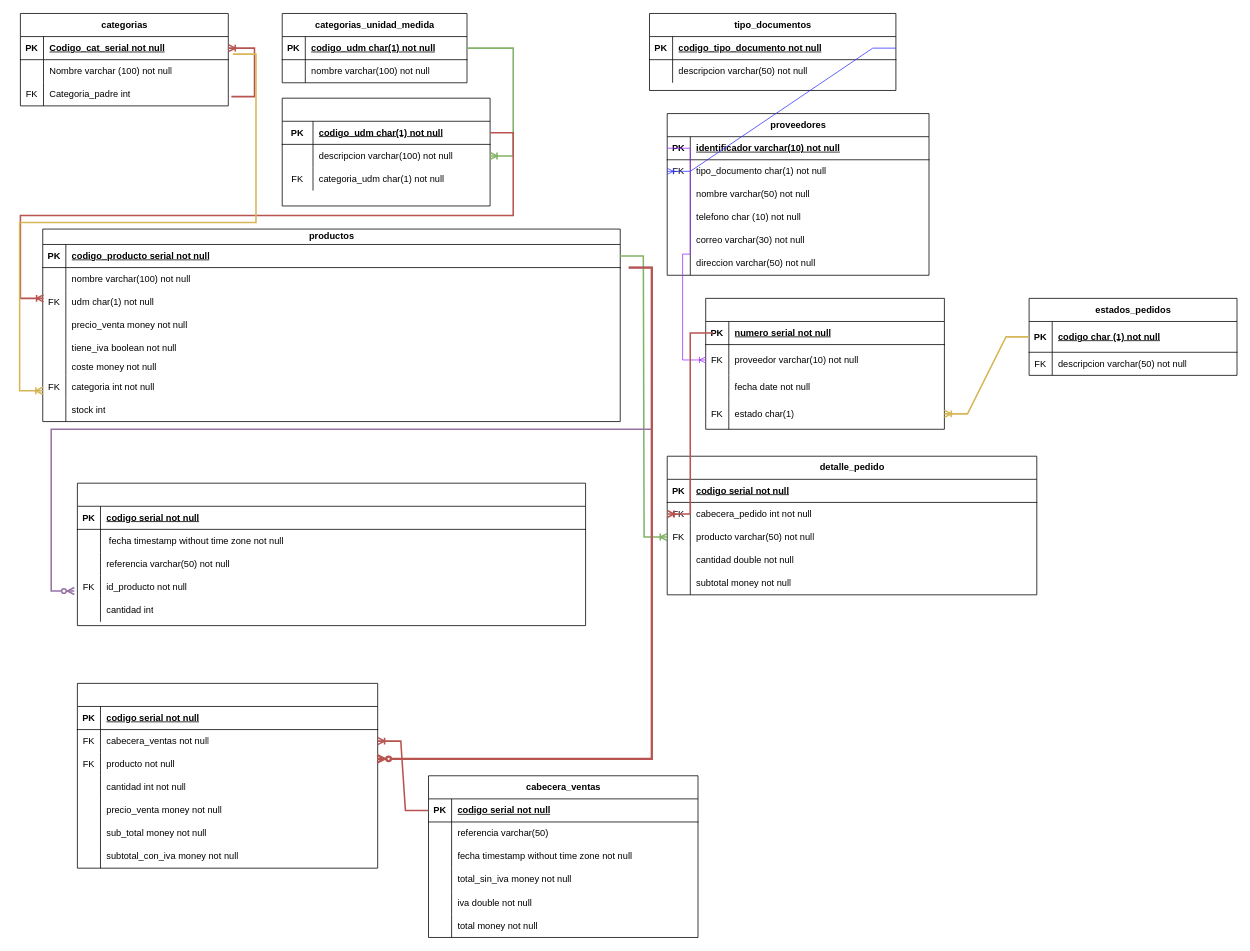
Some shapes in this 1250 by 951 pixel diagram are drawn without their labels. Here are the shapes that lost their labels. From the top down, the box of each, then its label:
(281, 97, 490, 206): unidades_medida
(705, 298, 944, 429): cabera_pedido
(77, 482, 586, 626): historial_stock
(77, 683, 378, 868): detalle_ventas
